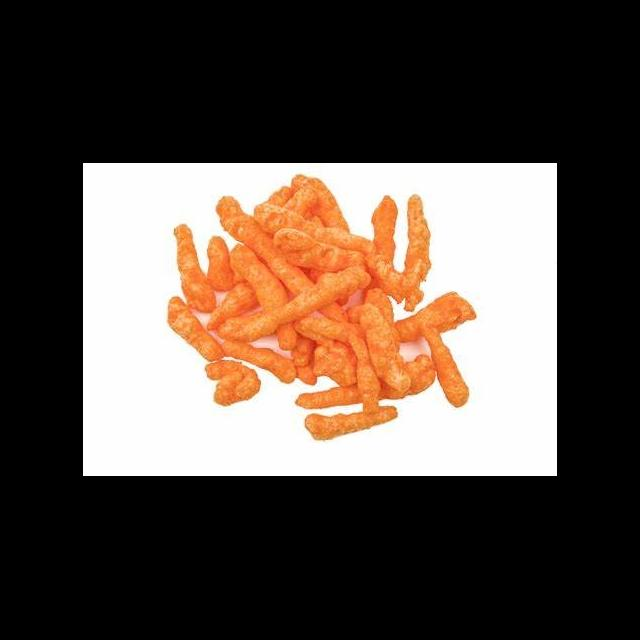food_waste: (165, 181, 496, 444)
